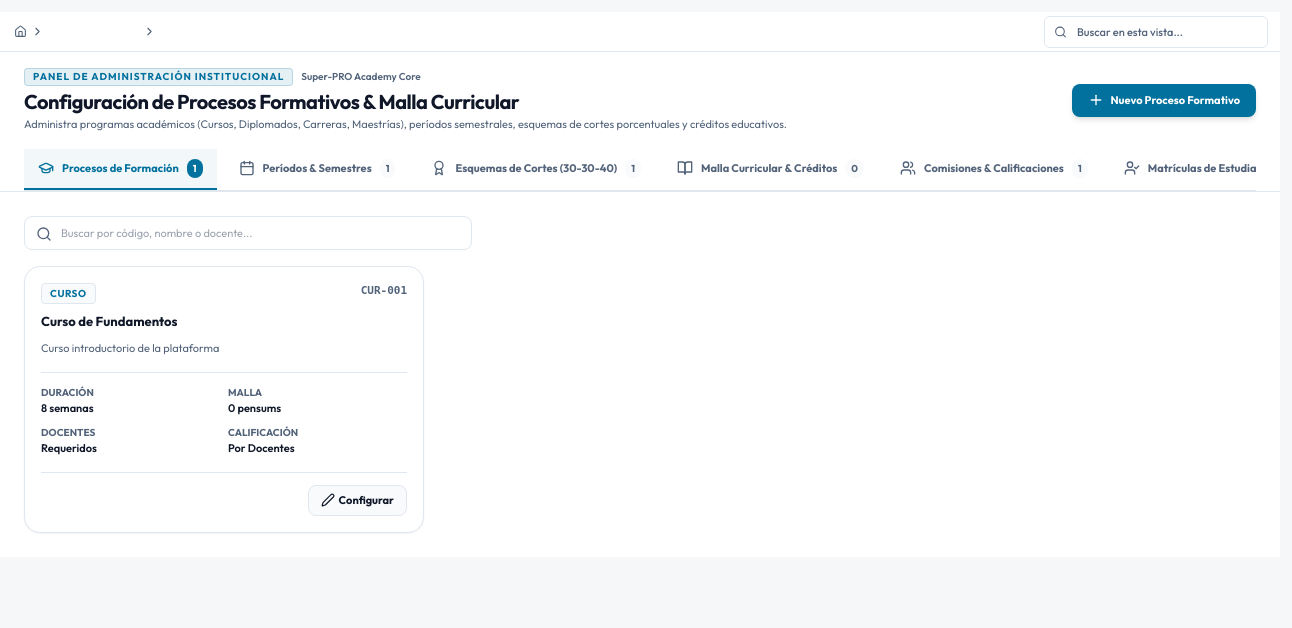
Test case: AcademyAdminConsole › cambia al tab de esquemas y muestra el esquema canónico con su escala
Expected: the heading "Curso de Fundamentos" is shown, top-left (41, 313), bottom-right (178, 329)
Click the button "Esquemas de Cortes (30-30-40) 1". click: [536, 169]
box: top-left (418, 148), bottom-right (655, 190)
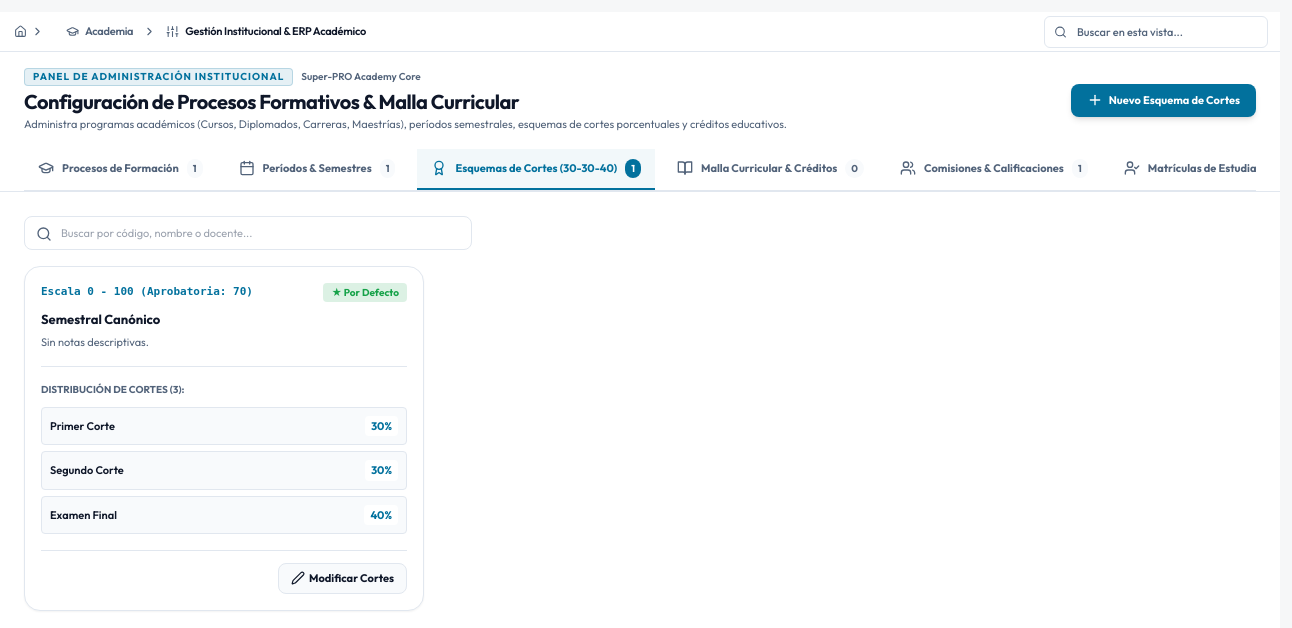
Expected: the heading "Semestral Canónico" is shown, top-left (41, 311), bottom-right (160, 327)
Expected: the text "Escala 0 - 100 (Aprobatoria: 70)" is shown, top-left (41, 284), bottom-right (253, 301)
